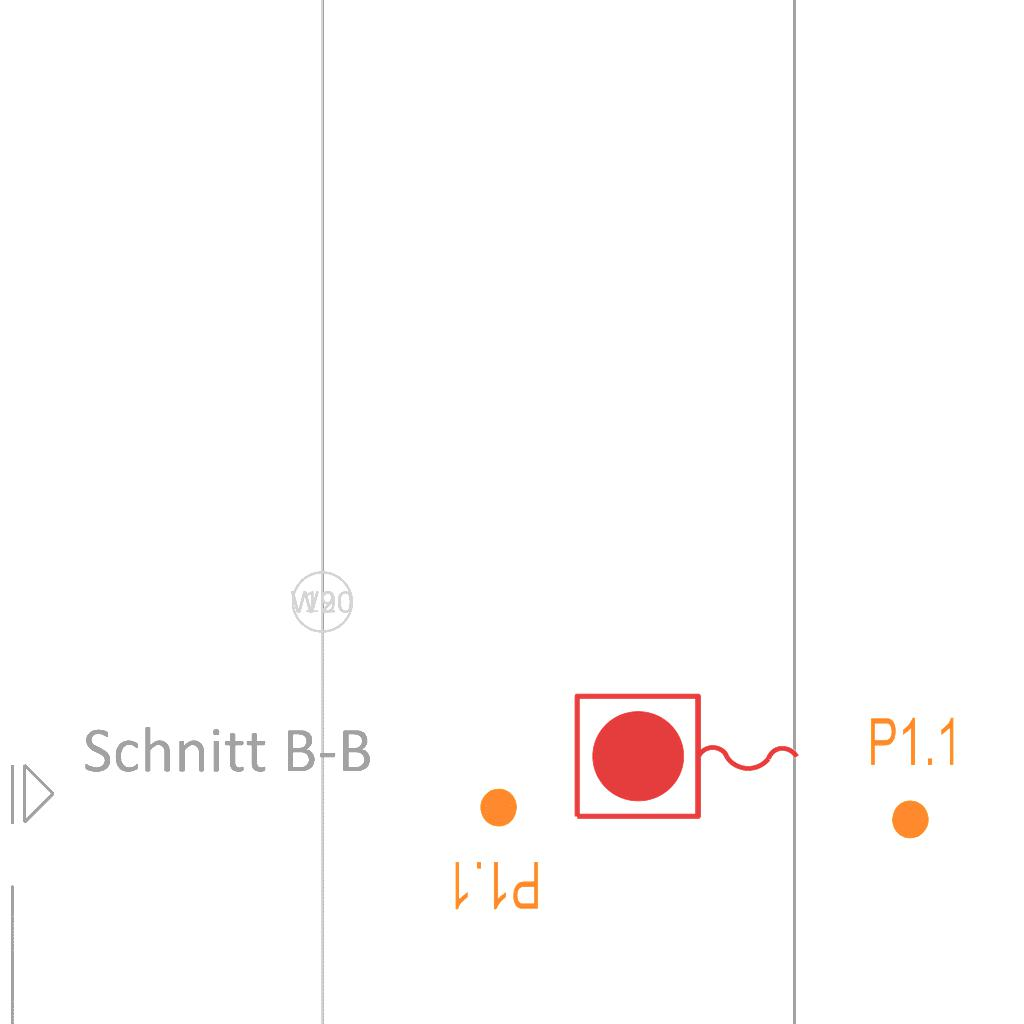Downlight_LED_Einbauleuchten_Flur: (449, 785, 542, 913), (867, 714, 960, 842)
Zugtaster: (566, 686, 810, 830)
